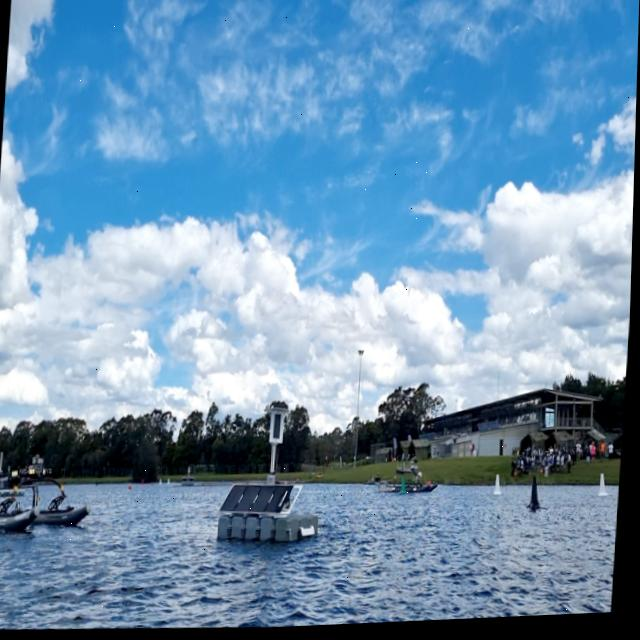led: (273, 414, 286, 444)
